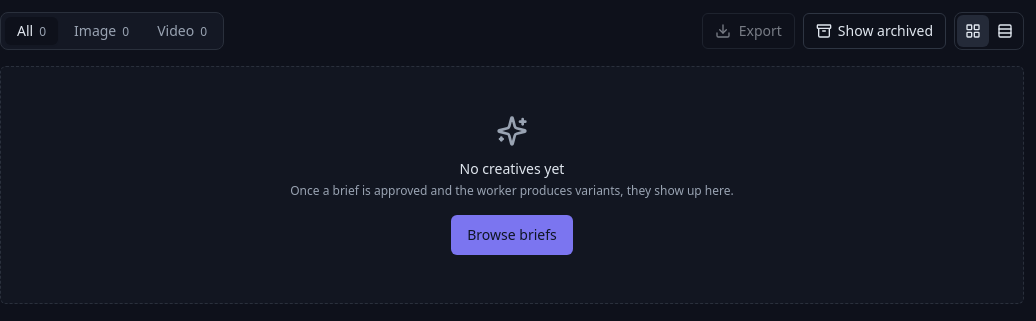
Test: CreativesGrid › surfaces an archived load error
The image size is (1036, 321).
Click the button "Show archived": [874, 31] box [803,13,946,49]
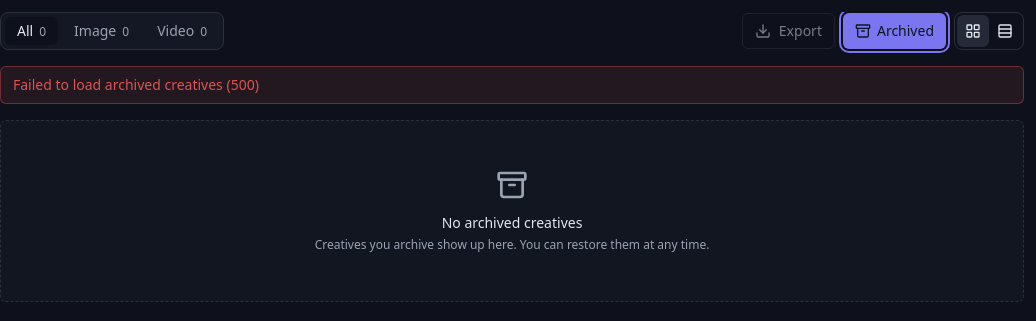
Check: the text "Failed to load archived creatives (500)" is shown, box [0,66,1024,104]
